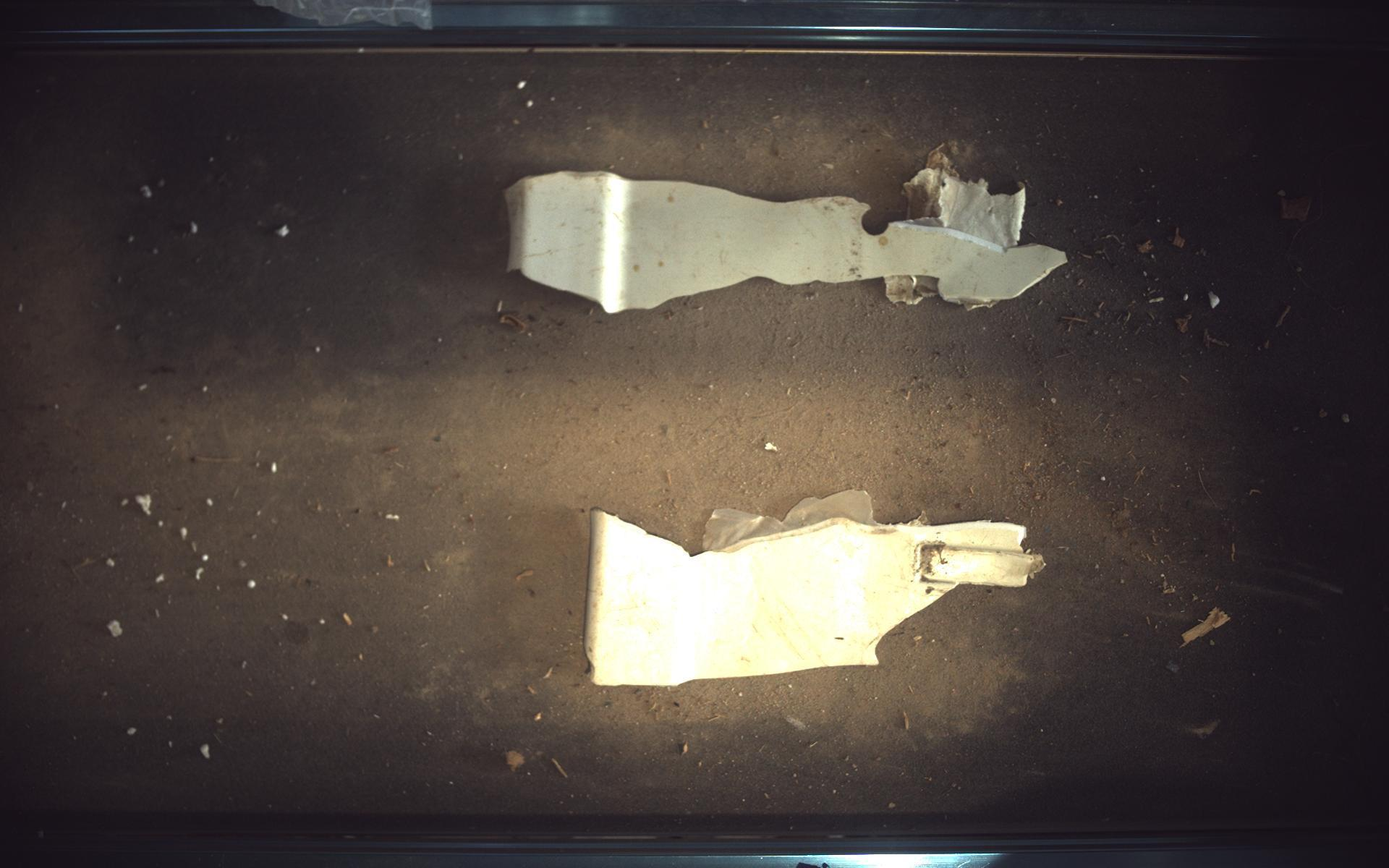plastic: (506, 145, 1069, 312), (585, 491, 1046, 686)
